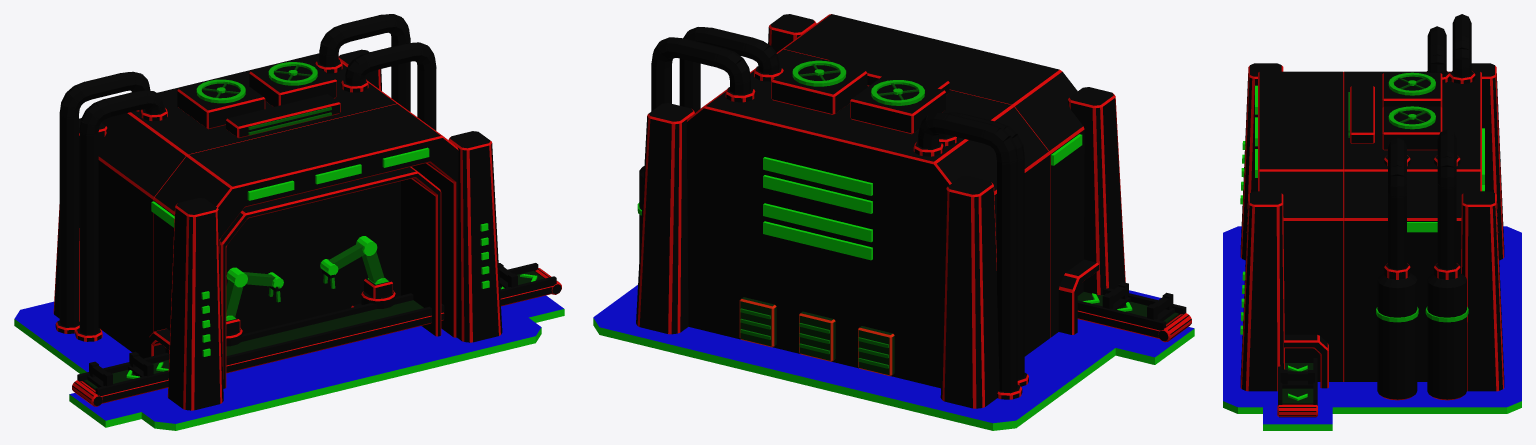
Rendered from SM_Holo_Assembler_T3.fbx.
3 views of the same model, side by side, from view 1: azimuth 30°, elevation 25°; view 2: azimuth 150°, elevation 25°; view 3: azimuth 270°, elevation 25° (orthographic). The views are drawn at different scales.
Parts seen in each view (by area): view 1: SM_Holo_Assembler_T3; view 2: SM_Holo_Assembler_T3; view 3: SM_Holo_Assembler_T3.
Boxes of the visible parts, <box> form: SM_Holo_Assembler_T3: <box>14,14,564,430</box>; SM_Holo_Assembler_T3: <box>593,14,1194,430</box>; SM_Holo_Assembler_T3: <box>1223,14,1521,430</box>.
Size of the model in its own units: 20.92 by 10.71 by 12.
